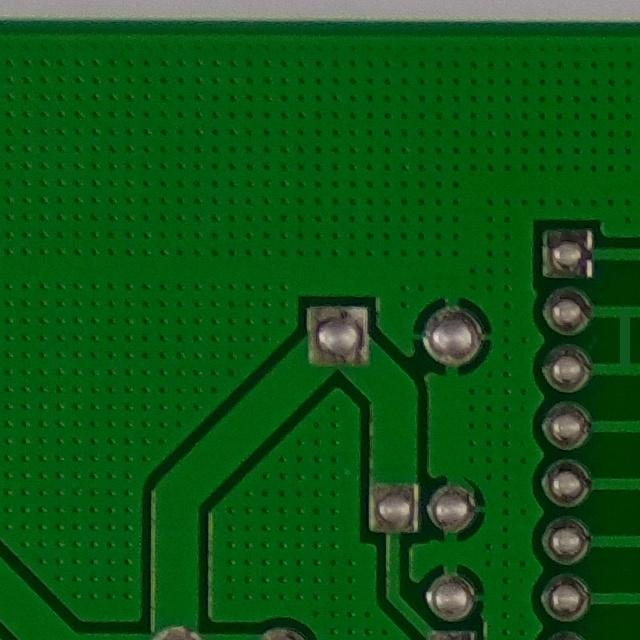short: (591, 297, 640, 379)
